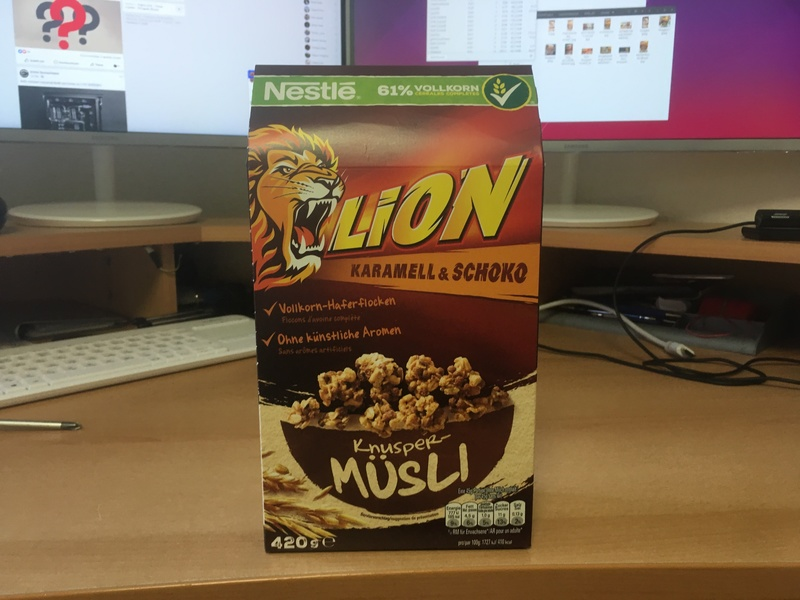cereals: (246, 63, 546, 551)
